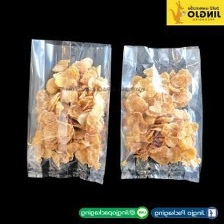snack: (19, 33, 117, 188), (115, 39, 209, 187)
